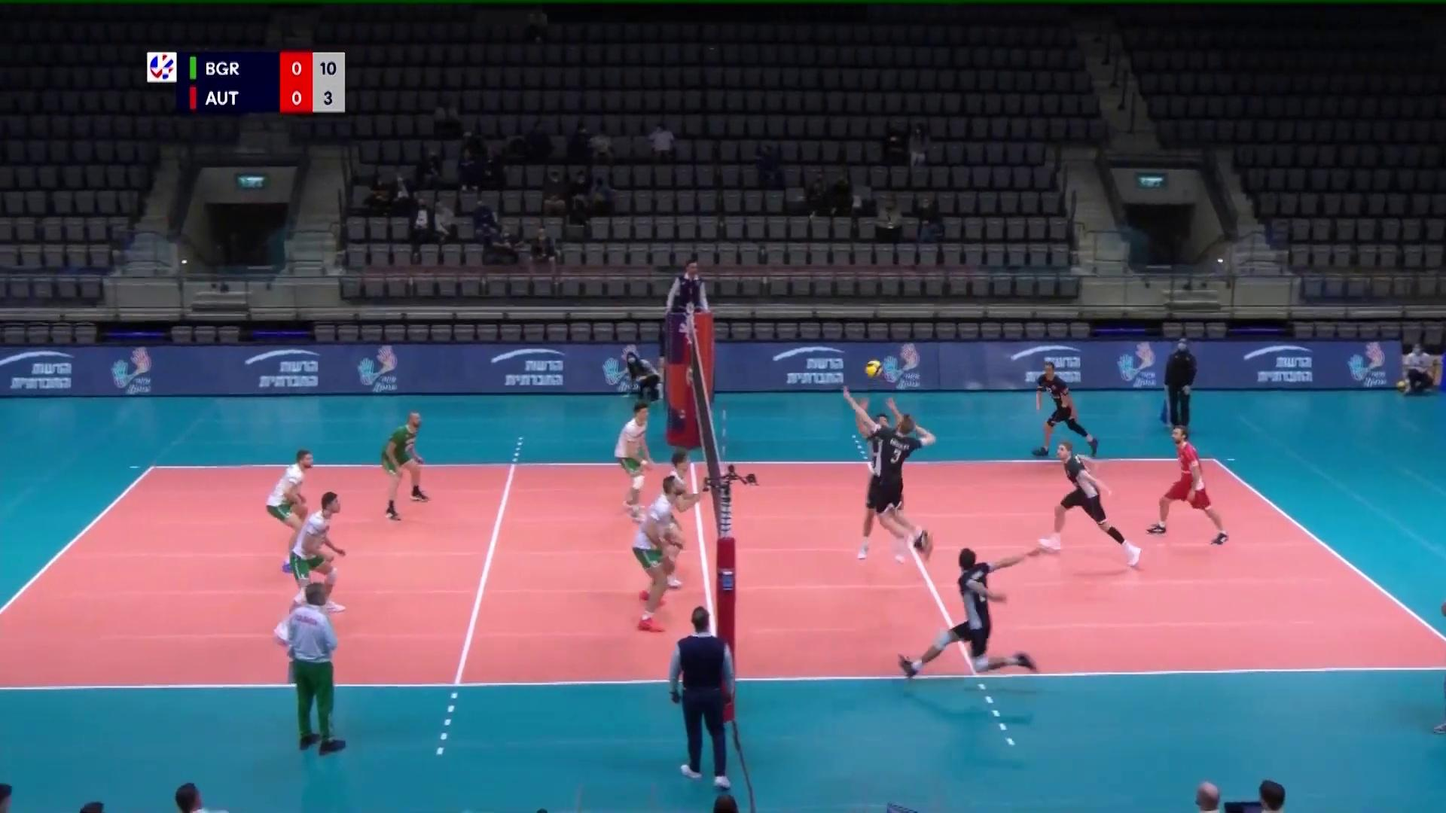ball: (864, 359, 885, 377)
